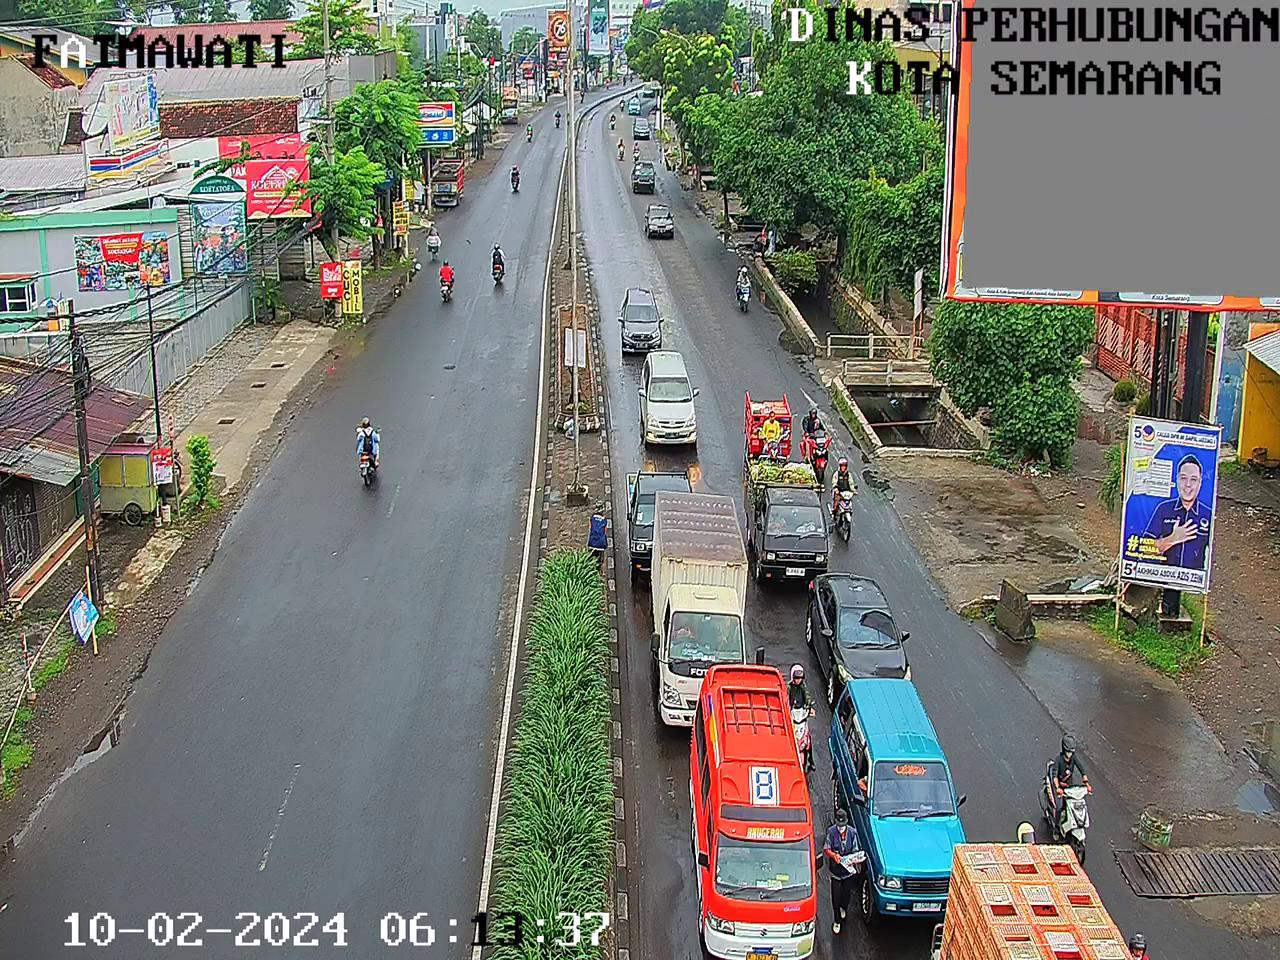car: (669, 679, 895, 960), (847, 659, 990, 934), (937, 814, 1136, 960), (809, 567, 918, 740), (775, 454, 868, 627), (590, 455, 706, 581), (627, 357, 720, 464), (600, 252, 681, 373), (615, 145, 690, 214), (639, 189, 680, 239), (630, 82, 678, 116), (629, 114, 655, 149)
motorcycle: (769, 632, 837, 768), (737, 377, 813, 484), (1035, 753, 1111, 845), (784, 409, 858, 469), (814, 452, 875, 521), (605, 129, 665, 173), (725, 257, 776, 306), (609, 90, 637, 125), (604, 112, 635, 134)
truck: (635, 485, 745, 753)
